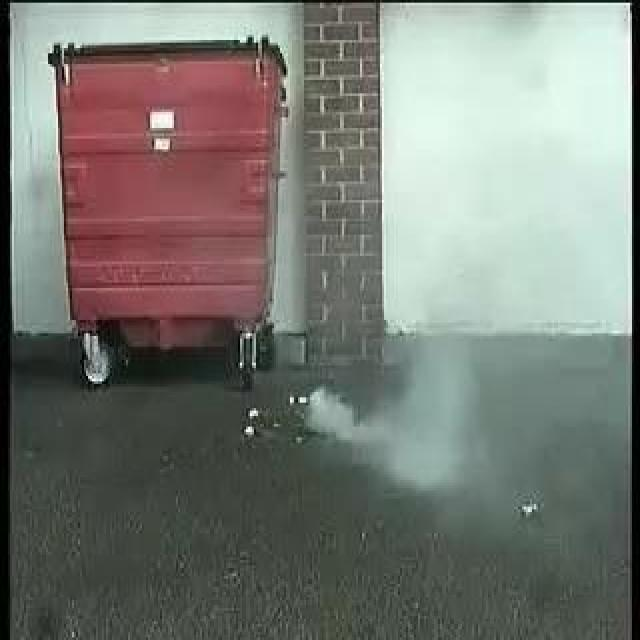Smoke: (301, 332, 497, 471)
